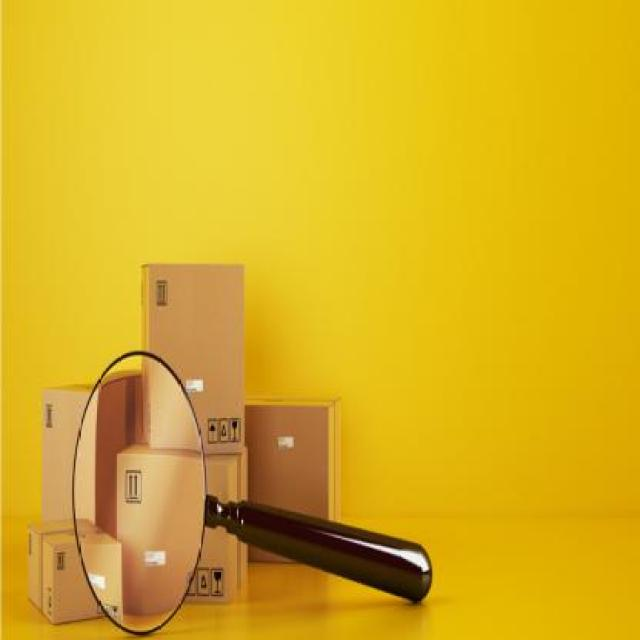box: (116, 453, 255, 633), (141, 253, 242, 453), (42, 378, 138, 526), (246, 389, 346, 526), (27, 525, 127, 629)
